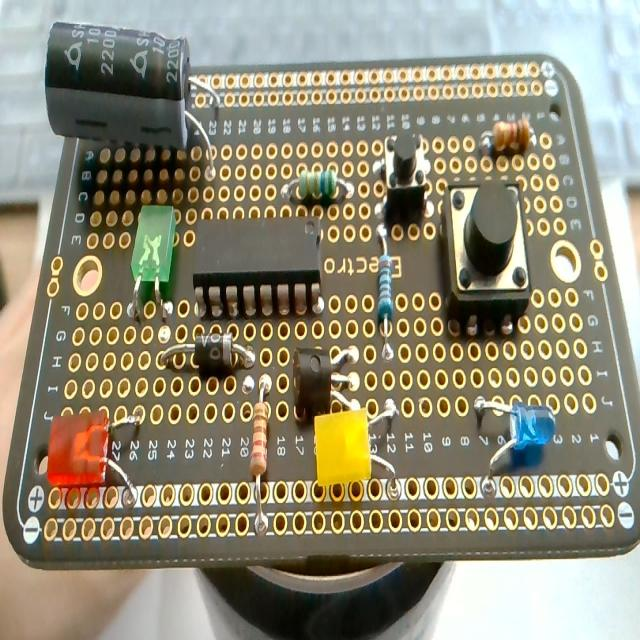Electrolytic capacitor: (44, 17, 225, 190)
IC: (192, 208, 322, 312)
diode: (162, 332, 259, 374)
led: (46, 401, 142, 510), (311, 394, 408, 499), (472, 390, 556, 497), (130, 205, 176, 287)
resistor: (249, 374, 271, 532), (281, 170, 355, 207), (478, 118, 542, 158), (375, 225, 396, 346)
switch: (443, 178, 532, 333), (378, 130, 431, 218)
transistor: (289, 333, 363, 422)
